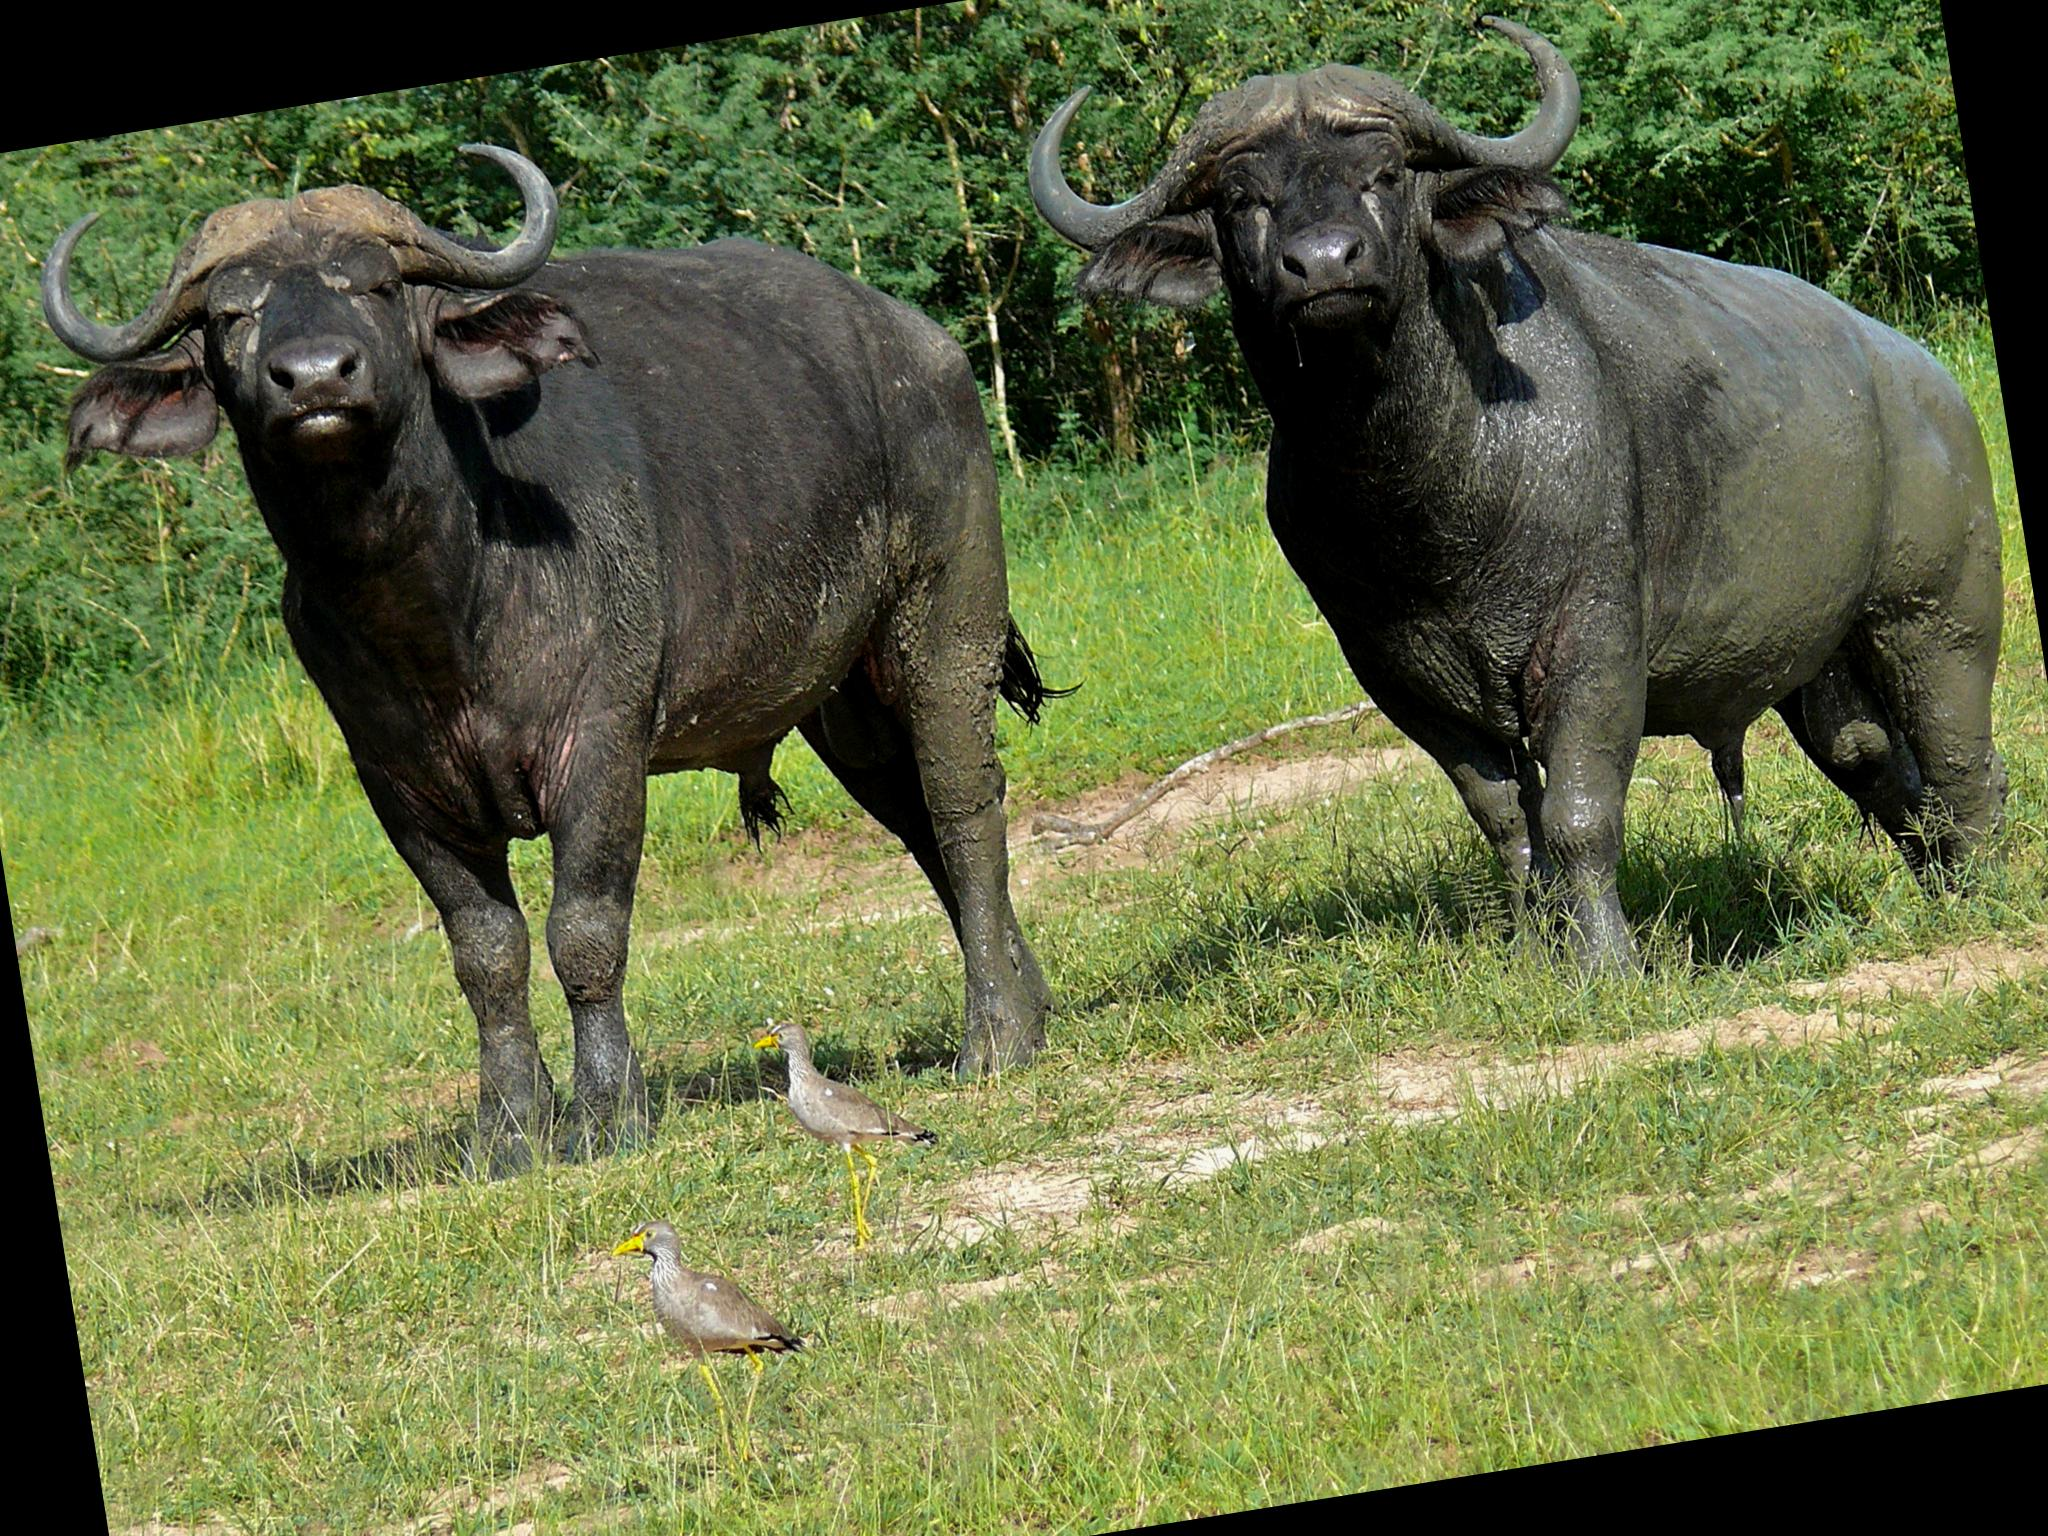Buffalo: (0, 0, 2048, 1350)
